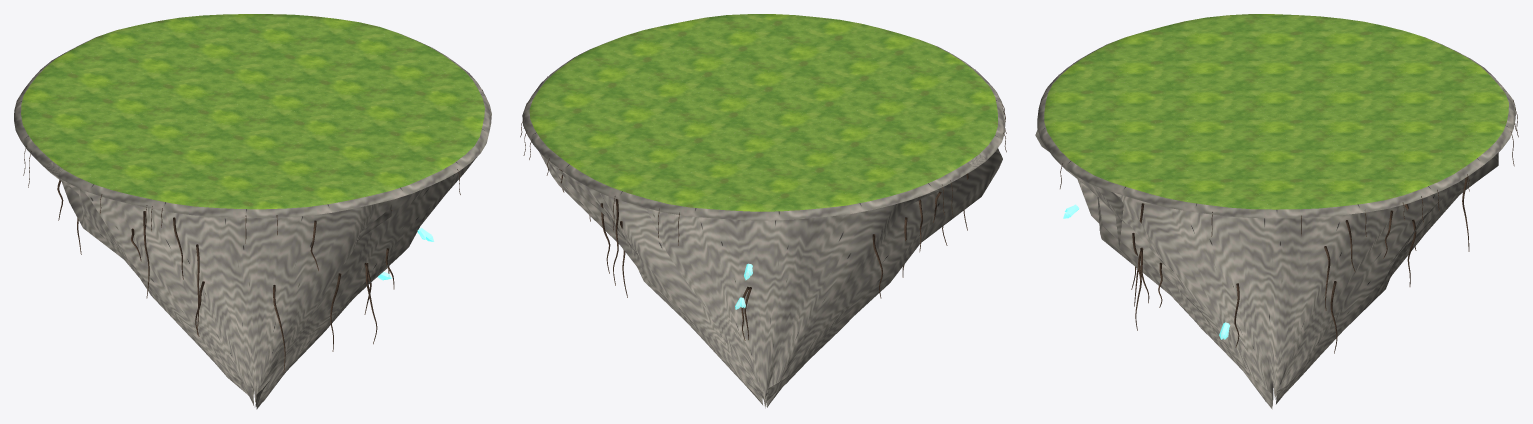
File: sky_platform_burnt.glb
3 views of the same model, side by side, from view 1: azimuth 30°, elevation 25°; view 2: azimuth 150°, elevation 25°; view 3: azimuth 270°, elevation 25° (orthographic).
Parts seen in each view (by area): view 1: IslandTop-col, IslandRock, IslandRoots; view 2: IslandTop-col, IslandRock, IslandRoots; view 3: IslandTop-col, IslandRock, IslandRoots.
Boxes of the visible parts, <box> form: IslandTop-col: <box>14,14,491,218</box>; IslandRock: <box>31,154,477,409</box>; IslandRoots: <box>23,89,483,372</box>; IslandTop-col: <box>522,14,1005,220</box>; IslandRock: <box>539,148,1002,408</box>; IslandRoots: <box>520,69,1006,340</box>; IslandTop-col: <box>1037,14,1515,218</box>; IslandRock: <box>1035,129,1500,409</box>; IslandRoots: <box>1060,100,1518,353</box>.
Size of the model in its own units: 57.25 by 39.25 by 57.74.
4 materials, 3 textured.
